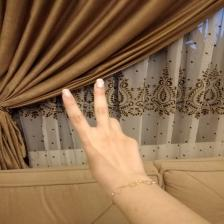two: (58, 75, 150, 190)
